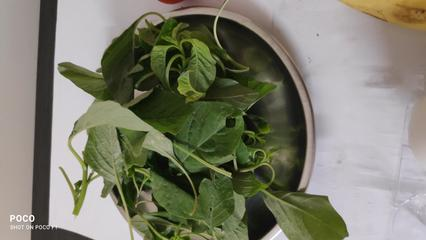spinach: (100, 45, 246, 232)
